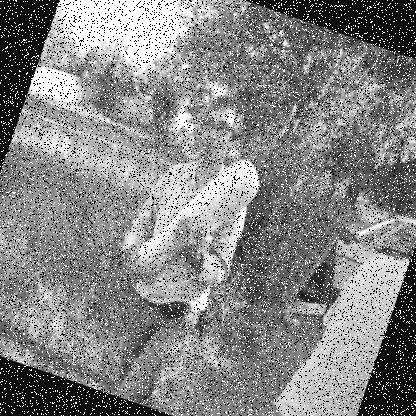Car: (299, 191, 415, 324)
